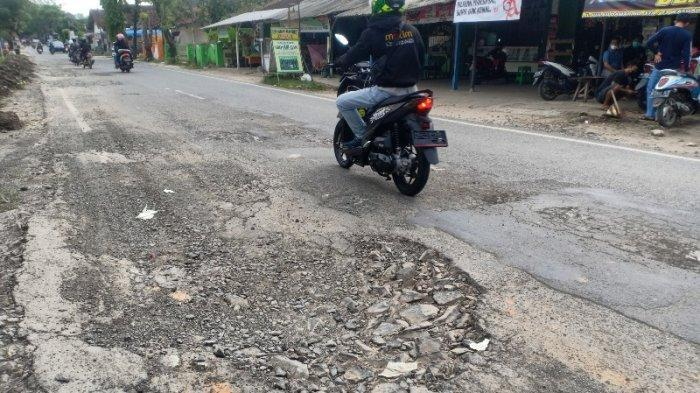Pothole: (64, 176, 495, 393), (468, 180, 700, 303)
